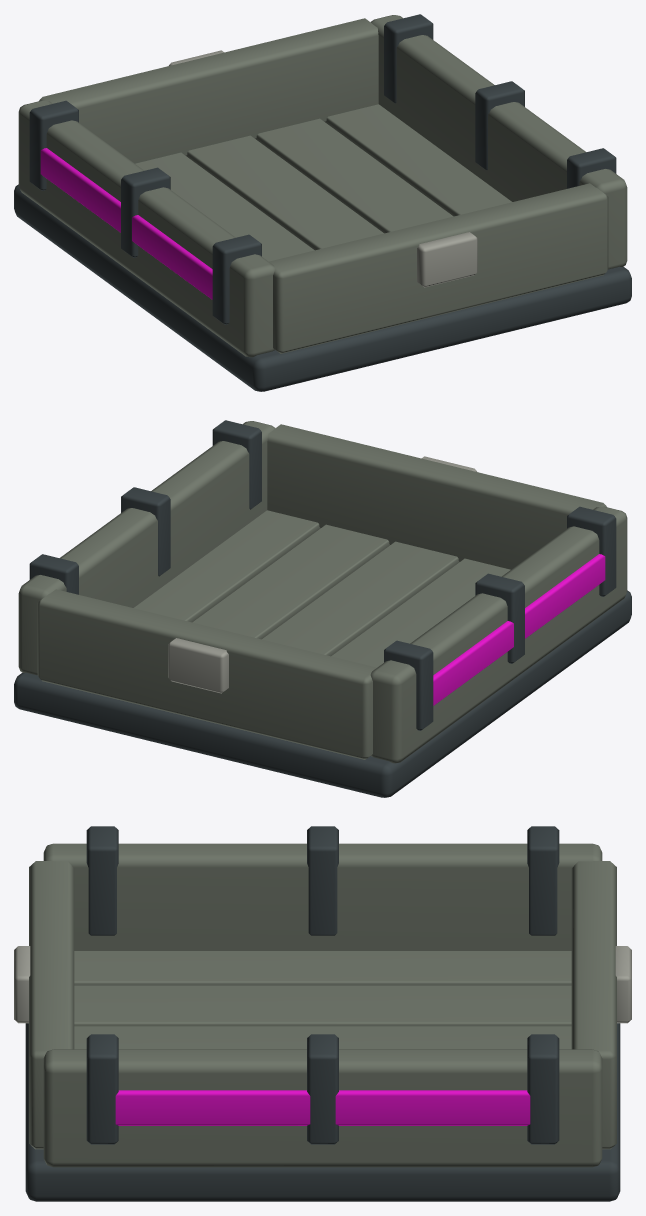
Rendered from military-truck-cargo-empty.glb.
3 renders of one model, top to bottom at view 1: azimuth 30°, elevation 25°; view 2: azimuth 150°, elevation 25°; view 3: azimuth 270°, elevation 25°, orthographic. The views are drawn at different scales.
Visible parts, largest first — view 1: TurretShell; view 2: TurretShell; view 3: TurretShell.
Boxes of the visible parts, x1,y1,x2,y2 form: TurretShell: [14, 14, 631, 391]; TurretShell: [14, 420, 631, 797]; TurretShell: [14, 826, 631, 1201].
Bounding box in the file's own units: 1.27 × 0.3945 × 1.43.
